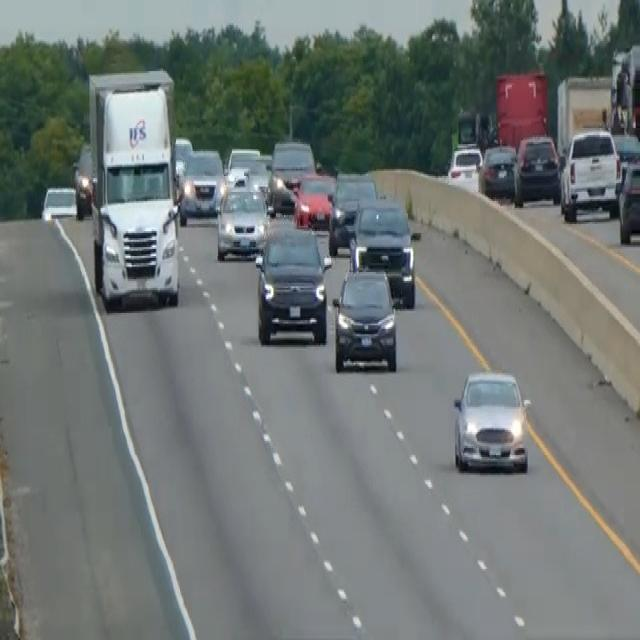car: (254, 224, 331, 345), (451, 366, 531, 473), (349, 195, 416, 308), (331, 265, 398, 373), (559, 124, 620, 220), (327, 169, 377, 254), (216, 182, 269, 260), (513, 132, 560, 206), (179, 146, 224, 222), (226, 151, 272, 208), (292, 170, 336, 228), (270, 137, 315, 190), (478, 142, 517, 199), (616, 156, 639, 244), (73, 140, 94, 218), (447, 140, 482, 185), (40, 183, 78, 221), (173, 134, 193, 182), (226, 144, 260, 167)
lorry: (86, 66, 182, 309)
